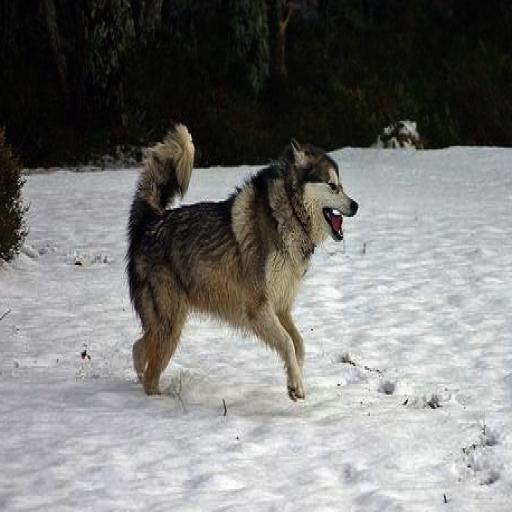dog_face: (281, 134, 362, 241)
